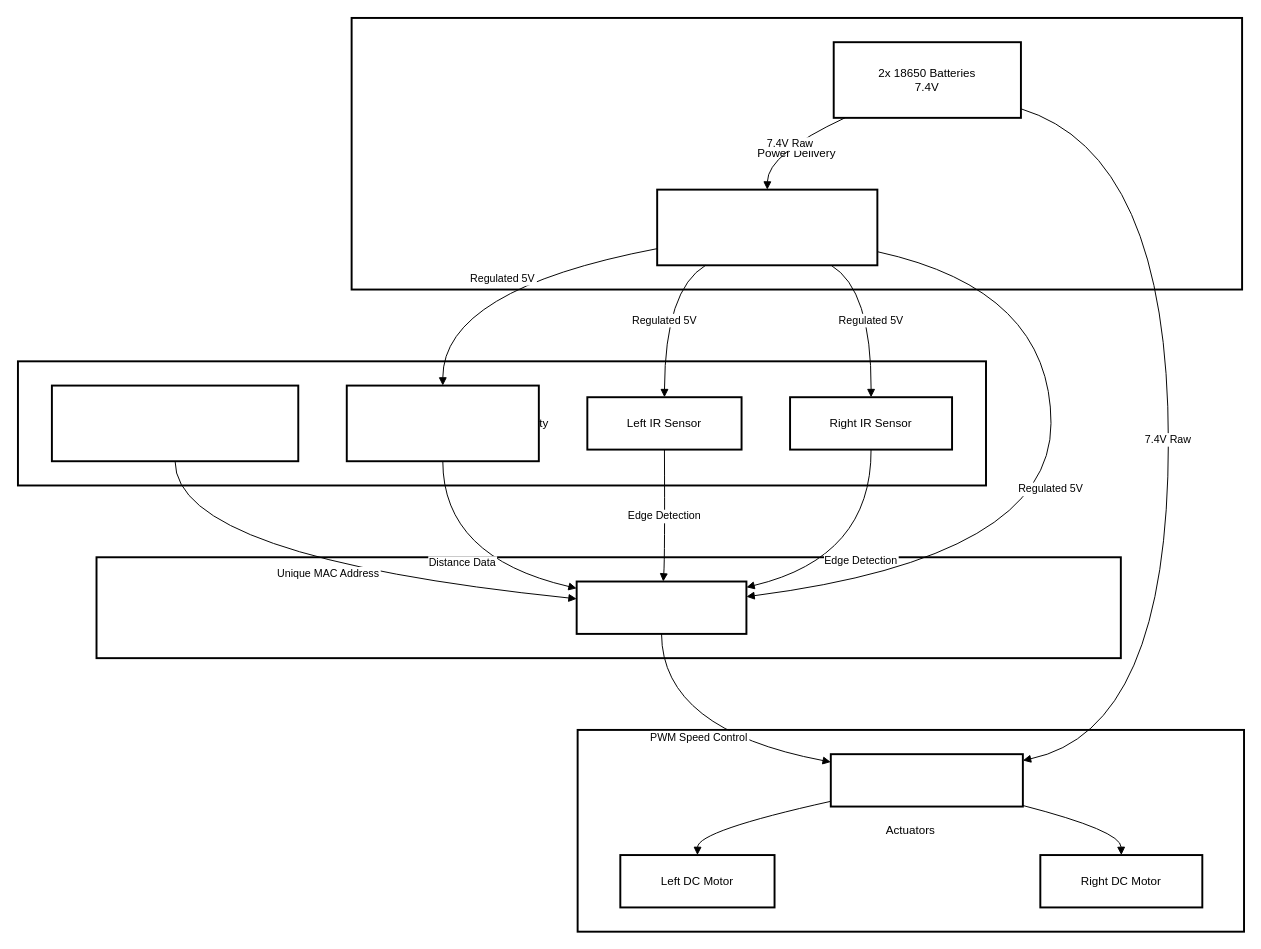
Image size: 1261x949. Some labels were removed from this diagram. Each missing label, with the centre of its shape:
ESP32 DevKit V1: pixel 661 607
HC-SR04P Ultrasonic Distance: pixel 442 423
Internal Bluetooth Antenna RSSI Tracking: pixel 174 423
L298N Motor Driver: pixel 926 780
LM2596 Buck Converter Step down to 5V: pixel 767 227
